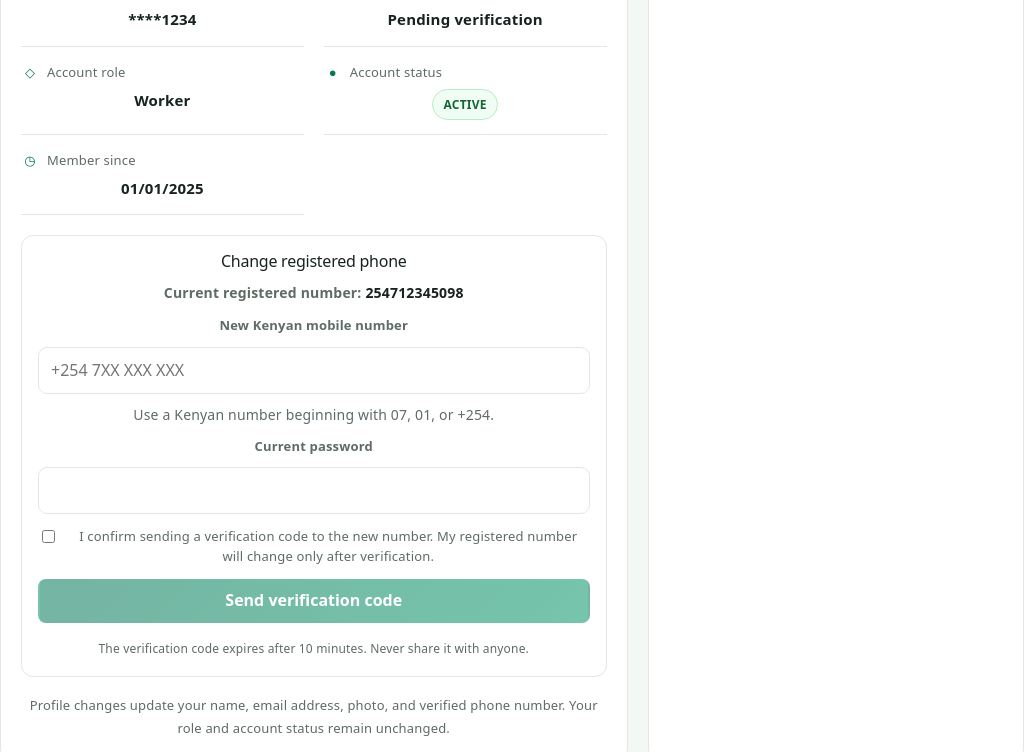
shared ProfileCard › shows distinct sanitized feedback for SMS configuration and provider failures
(page scrolled)
Type "0712 345 678" into the field labelled "New Kenyan mobile number" at (314, 370), box [38,347,590,394]
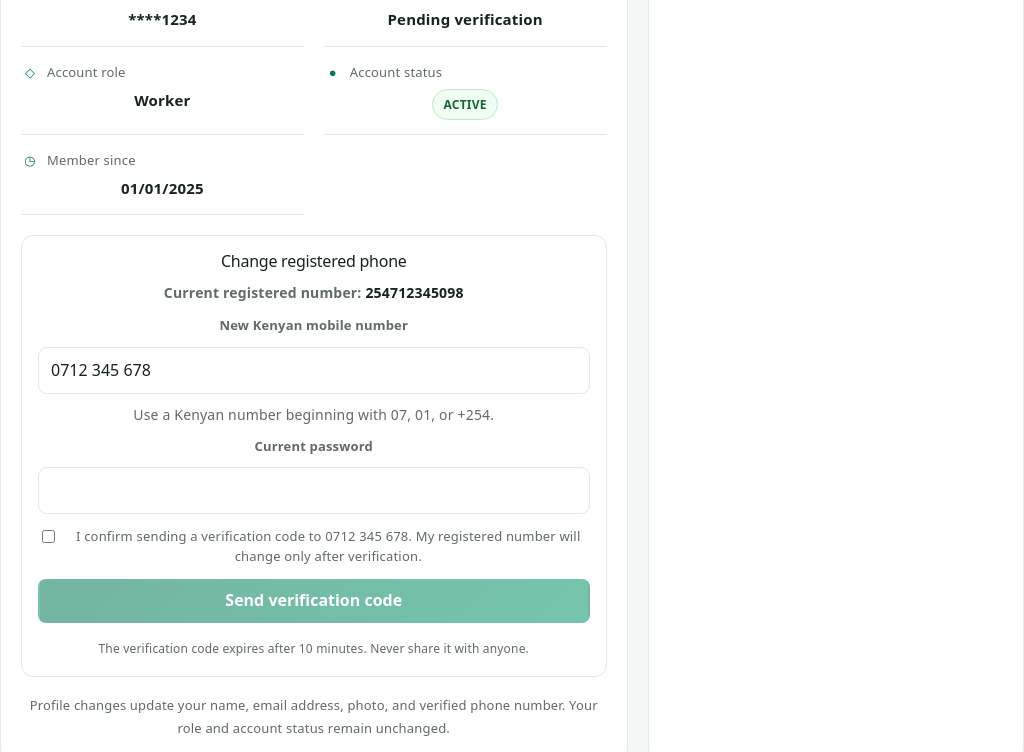
Type "current-password" into the password field labelled "Current password" at (314, 491), box [38,467,590,514]
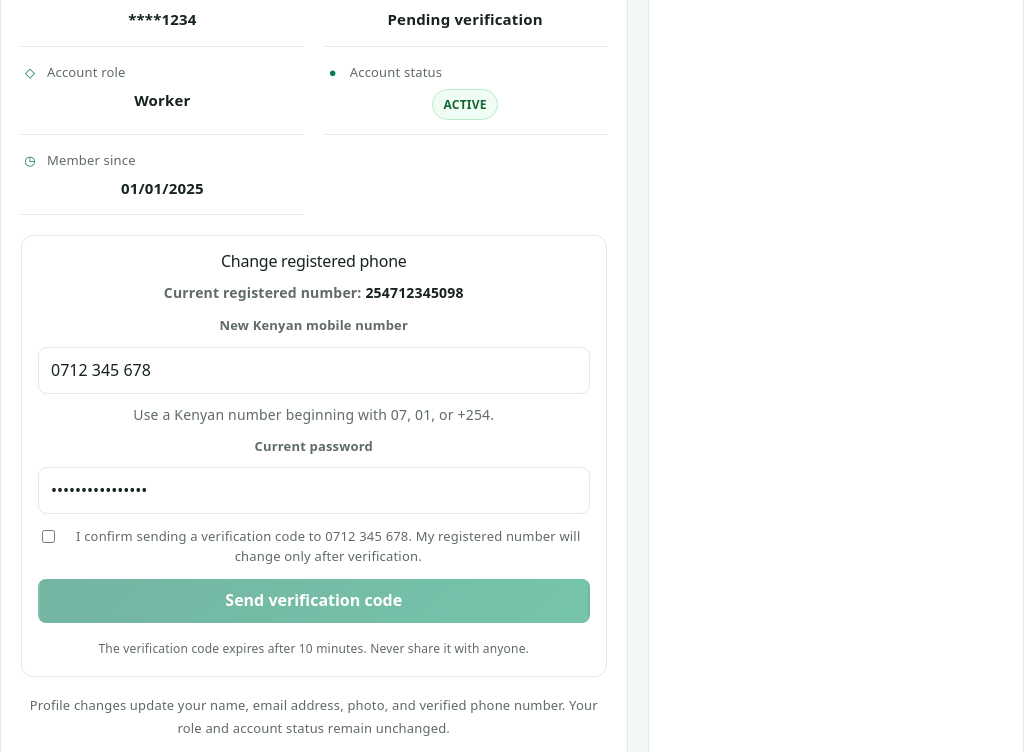
Click the checkbox at (48, 537), box [42,530,55,543]
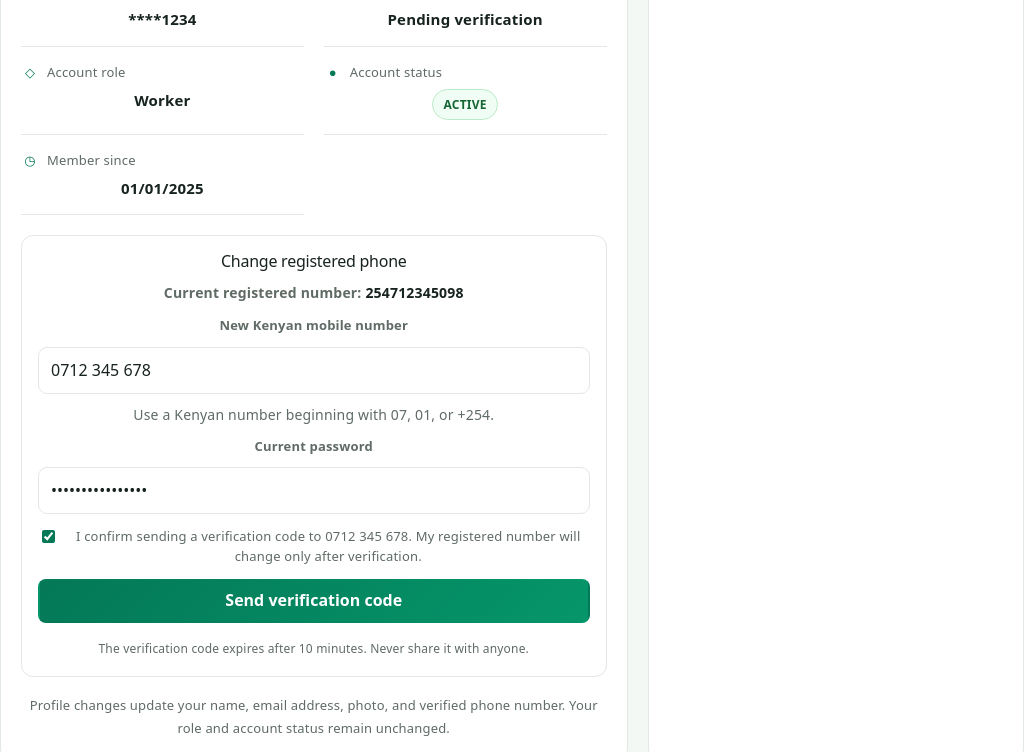
Click the button "Send verification code" at (314, 601), box [38,579,590,623]
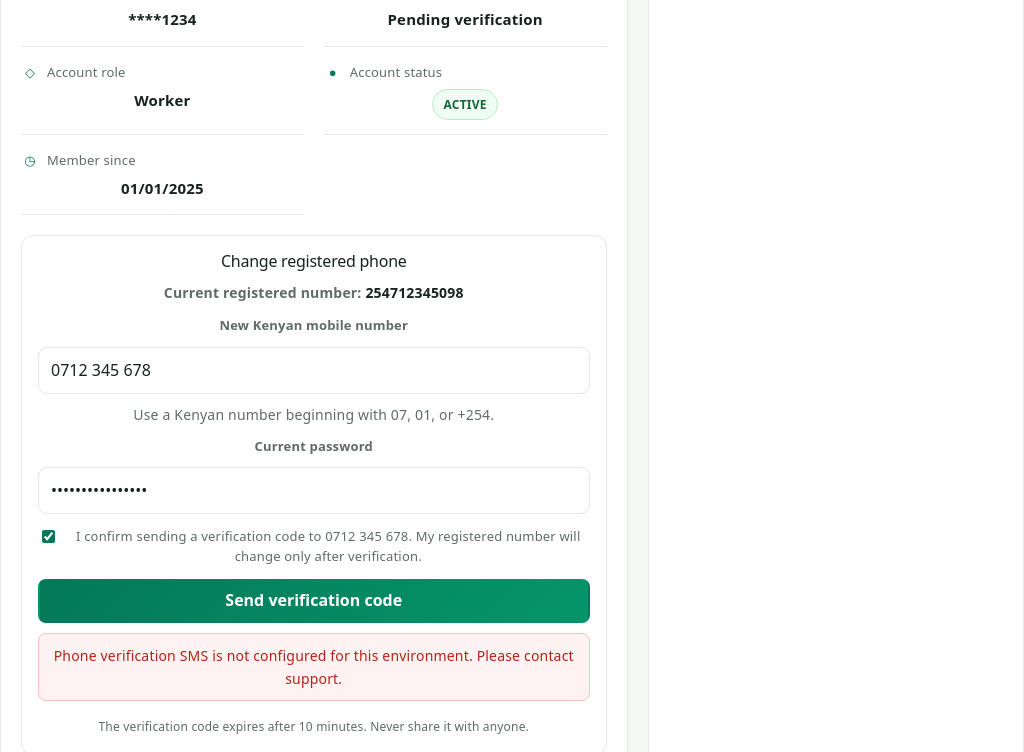
Expected: the message shows "Phone verification SMS is not configured for this environment", [54,646,574,688]
Click the button "Send verification code" at (314, 601), box [38,579,590,623]
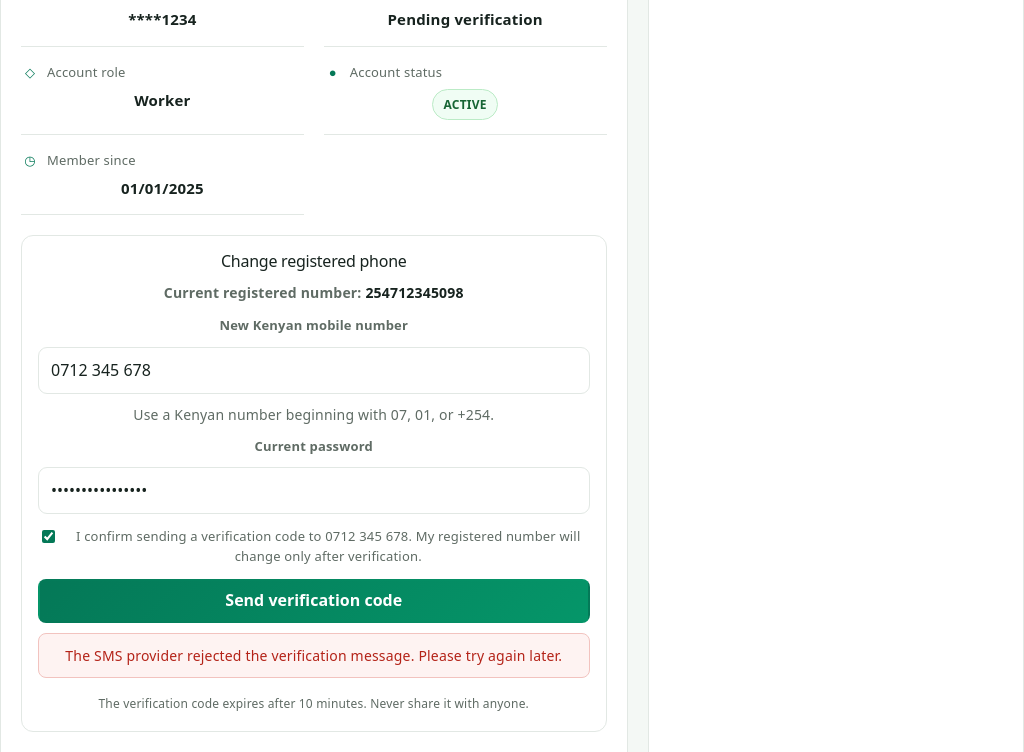
Expected: the message shows "The SMS provider rejected the verification message", [65,646,562,665]
